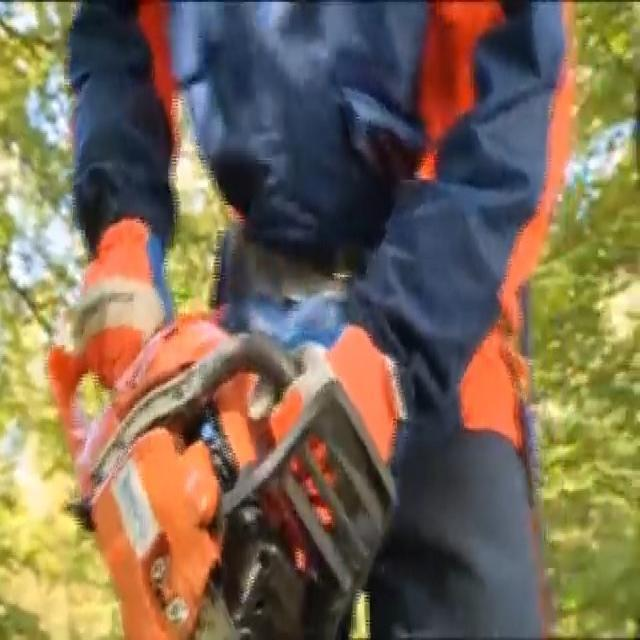Chainsaw: (47, 287, 408, 640)
